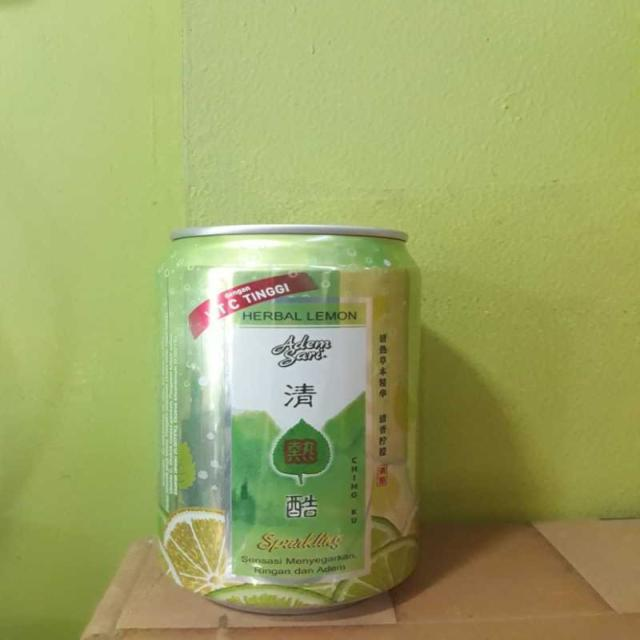ademsarikaleng: (154, 223, 424, 614)
